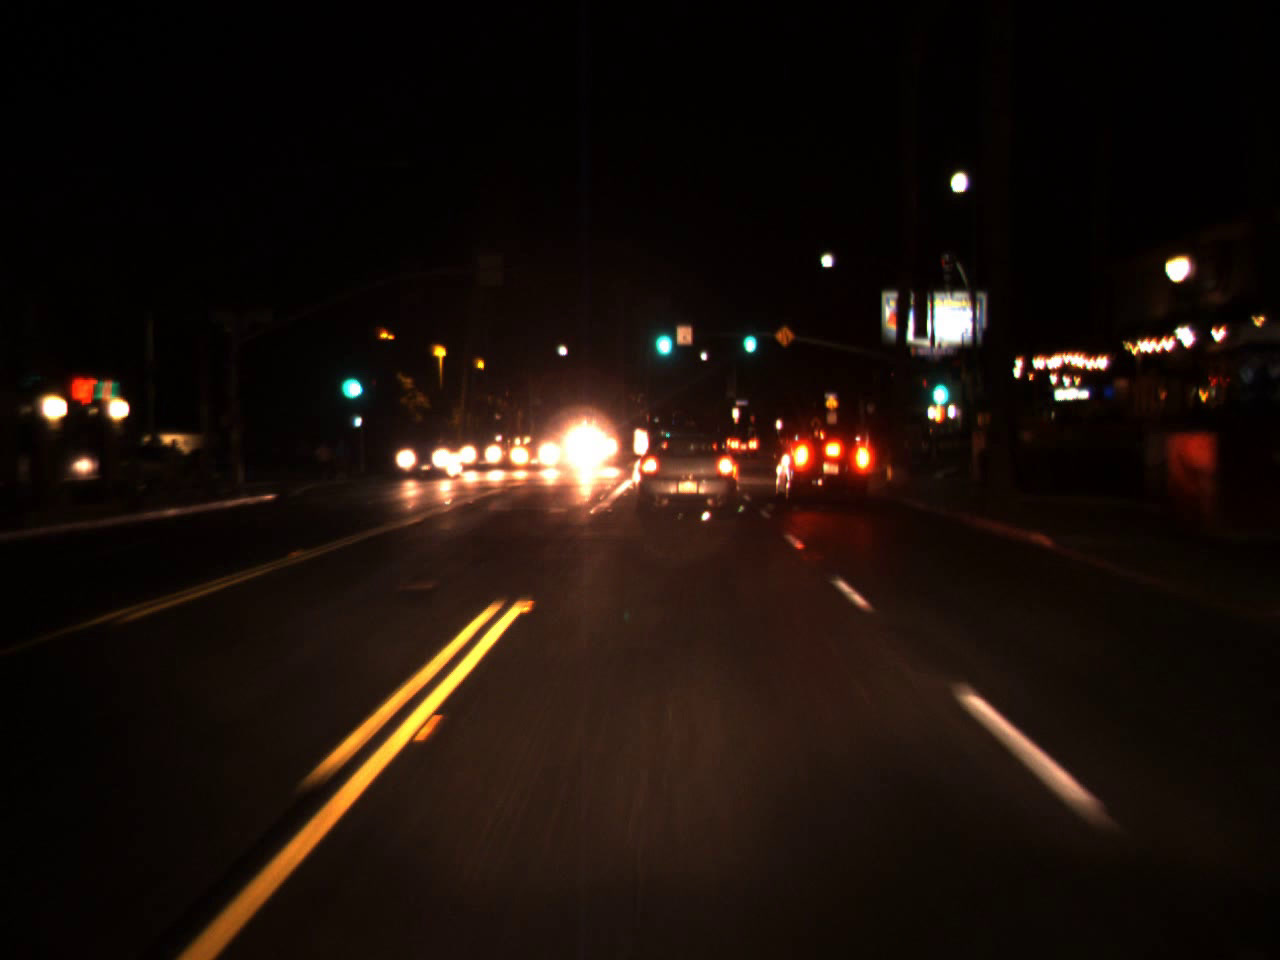go: (335, 353, 363, 407), (648, 309, 676, 363), (928, 356, 951, 413), (738, 320, 759, 353)
